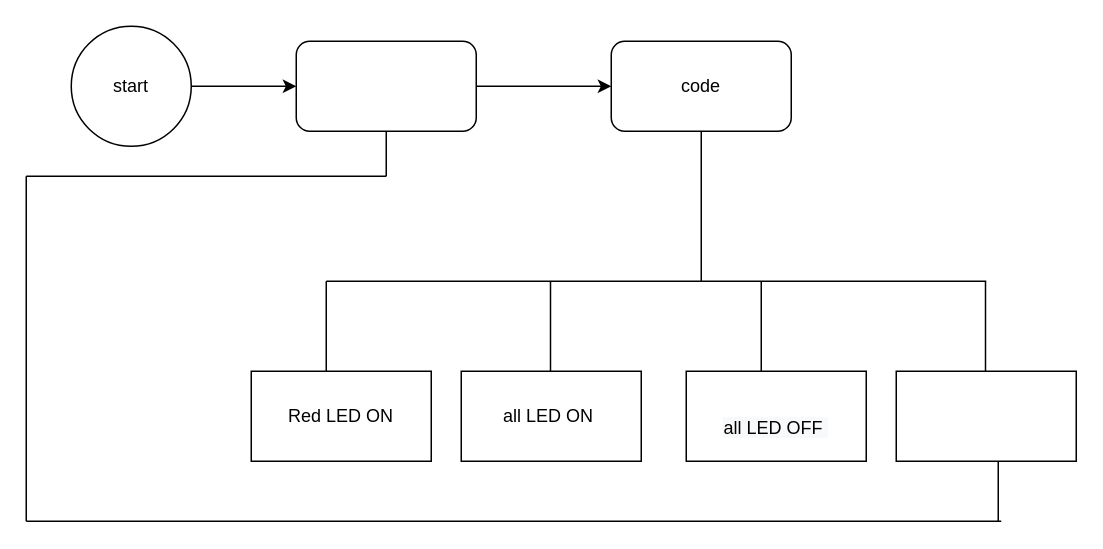
Some shapes in this 1103 by 549 pixel diagram are drawn without their labels. The shapes that lost their labels are listed below. From the top down, each one's box as (x1, y1, x2, y2) in pixels, then its label:
(295, 40, 476, 131): input button press
(895, 370, 1076, 461): Red LED OFF
